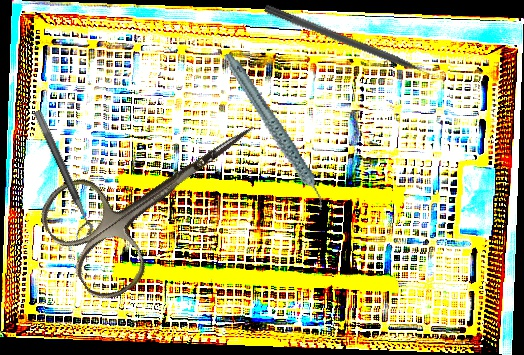Fixation Ring: (22, 109, 96, 240)
Handpiece: (221, 39, 327, 225)
Iris Scissors: (30, 78, 290, 309)
Pusher: (262, 3, 445, 86)
